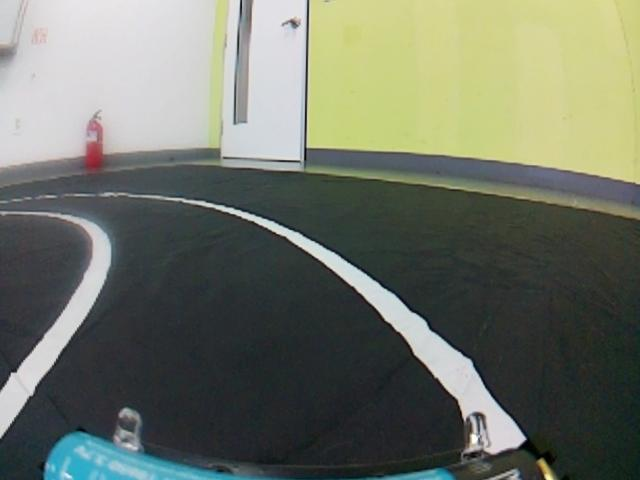straight: (0, 187, 584, 476)
